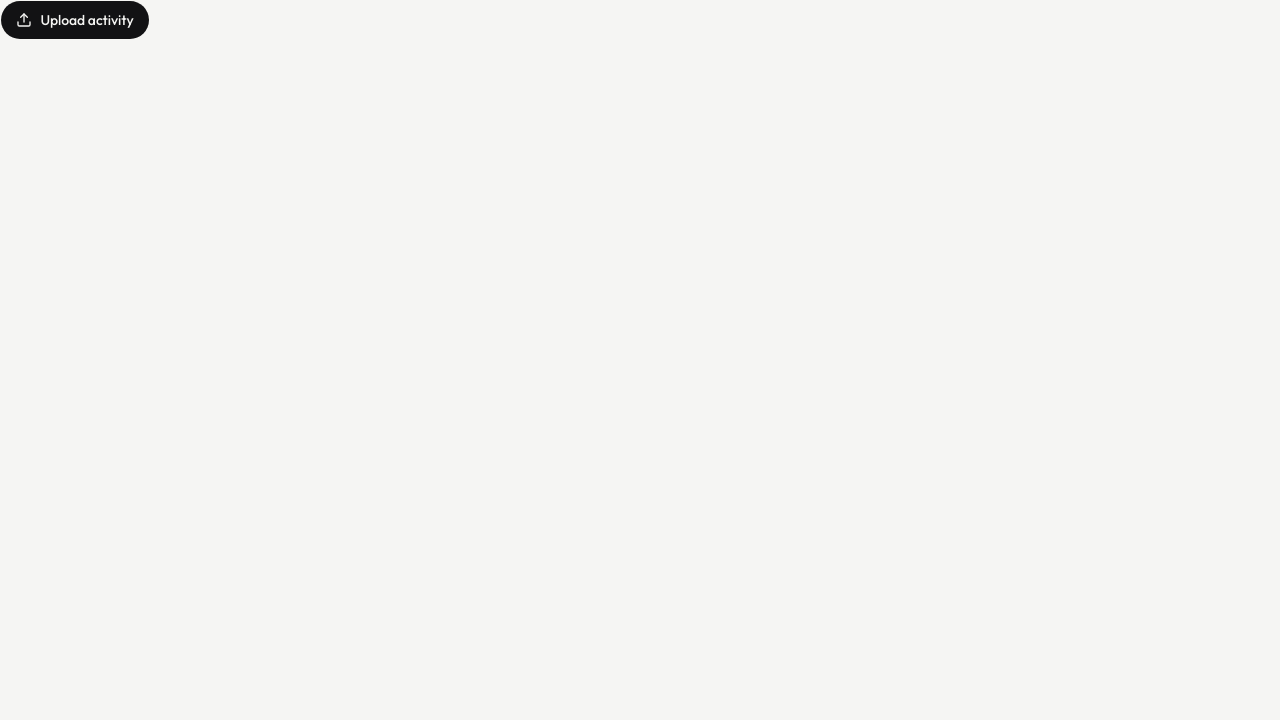
Scenario: UploadActivityDrawer › closes from the header close control
Click the button with test id "upload-activity-button" at (75, 20), box [0, 0, 150, 40]
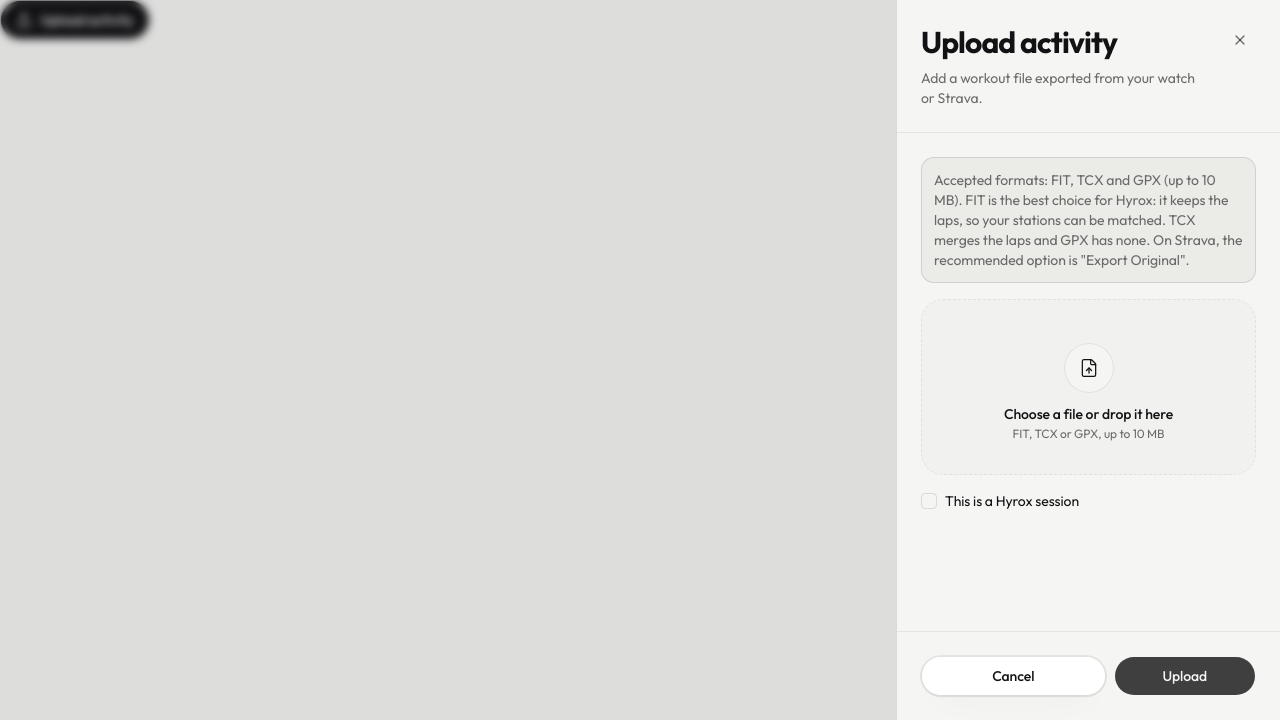
Now the text with test id "upload-format-banner" is shown, box [921, 157, 1256, 283]
Click the button with test id "upload-close" at (1240, 40), box [1224, 24, 1256, 56]
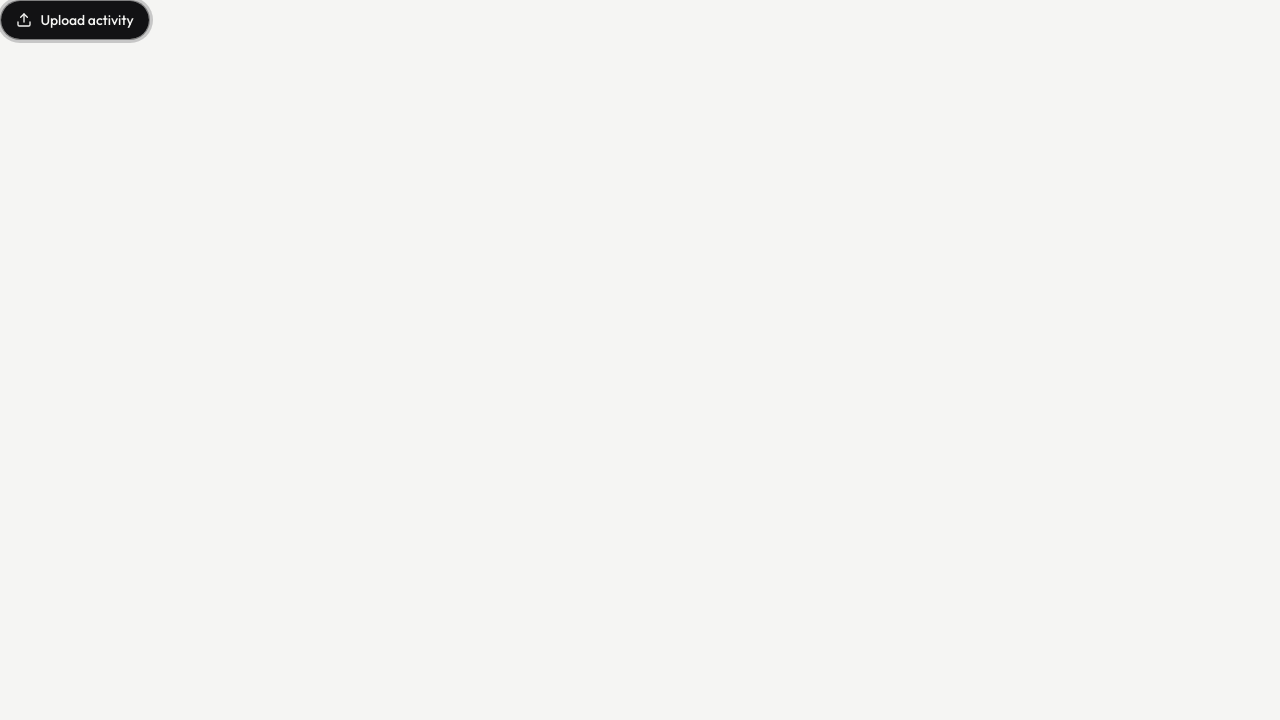
Now the button with test id "upload-activity-button" has attribute data-state="closed", box [0, 0, 150, 40]
